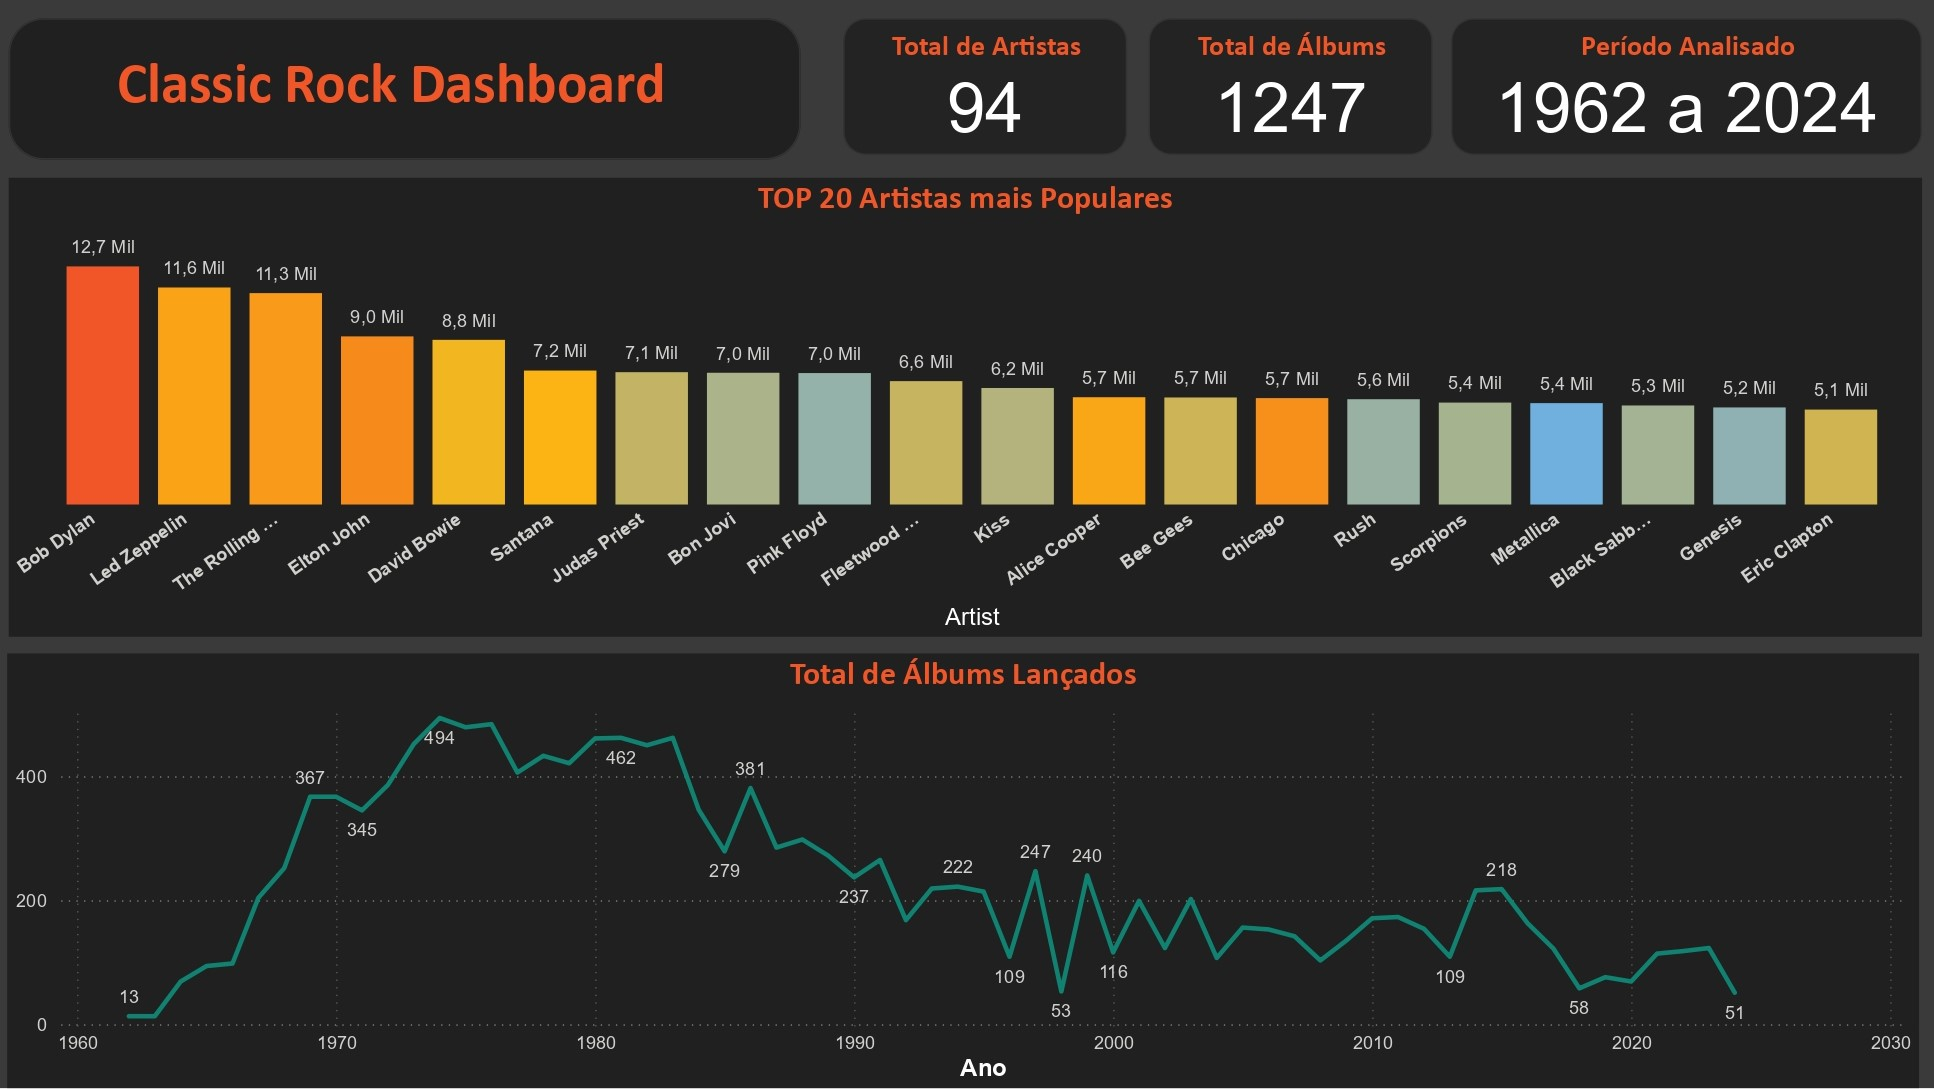

This screenshot's page, from the dashboard's own definition file:
{"tool":"powerbi","page":{"name":"Visão dos Artistas","canvas":[1280,720],"ordinal":0},"visuals":[{"type":"shape","box":[10,15.7,521.4,92.9],"z":0},{"type":"columnChart","title":"TOP 20 Artistas mais Populares","fields":{"Category":["UltimateClassicRock.Artist"],"Y":["UltimateClassicRock.Popularity"]},"box":[10,121.4,1258.6,301.4],"z":1000},{"type":"card","title":"Total de Artistas","fields":{"Values":["UltimateClassicRock.Artist"]},"box":[558.6,15.7,187.1,90],"z":2000},{"type":"textbox","box":[75.7,30,390,62.9],"z":3000},{"type":"card","title":"Total de Álbums","fields":{"Values":["UltimateClassicRock.Album"]},"box":[760,15.7,187.1,90],"z":4000},{"type":"card","title":"Período Analisado","fields":{"Values":["UltimateClassicRock.PeriodoAnalisado"]},"box":[958.6,15.7,310,90],"z":5000},{"type":"lineChart","title":"Total de Álbums Lançados","fields":{"Y":["UltimateClassicRock.Album"],"Category":["UltimateClassicRock.Year"]},"box":[8.6,434.3,1258.6,285.7],"z":6000}]}

Visuals, with their boxes in screenshot pixels (x1, y1, x2, y2), scaled from the page's 1280x720 canvas onto the 1934x1089 screenshot:
shape: x1=15, y1=24, x2=803, y2=164
"TOP 20 Artistas mais Populares" columnChart: x1=15, y1=184, x2=1917, y2=639
"Total de Artistas" card: x1=844, y1=24, x2=1127, y2=160
textbox: x1=114, y1=45, x2=704, y2=141
"Total de Álbums" card: x1=1148, y1=24, x2=1431, y2=160
"Período Analisado" card: x1=1448, y1=24, x2=1917, y2=160
"Total de Álbums Lançados" lineChart: x1=13, y1=657, x2=1915, y2=1088
